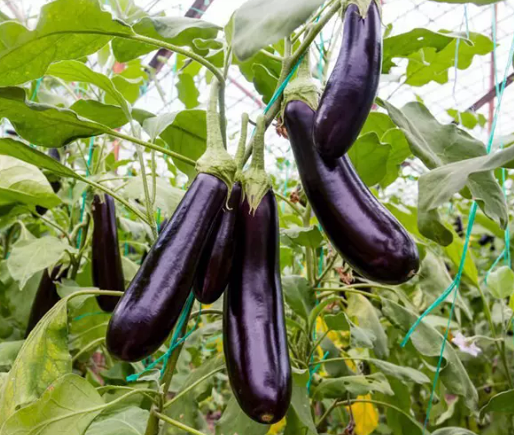catim: (99, 73, 238, 371), (285, 34, 427, 286), (239, 115, 295, 426), (308, 2, 383, 172), (192, 174, 251, 306), (80, 143, 125, 310), (33, 136, 74, 208)
